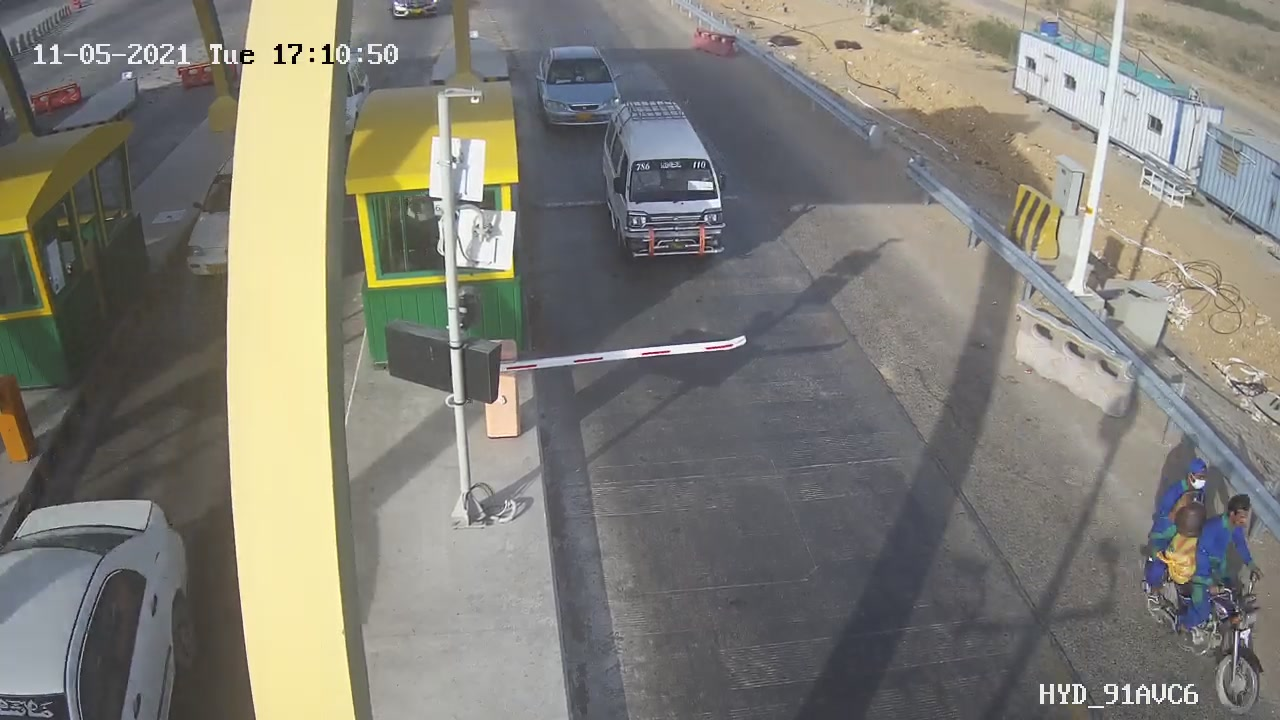F1: (585, 83, 751, 283), (521, 29, 644, 147)
